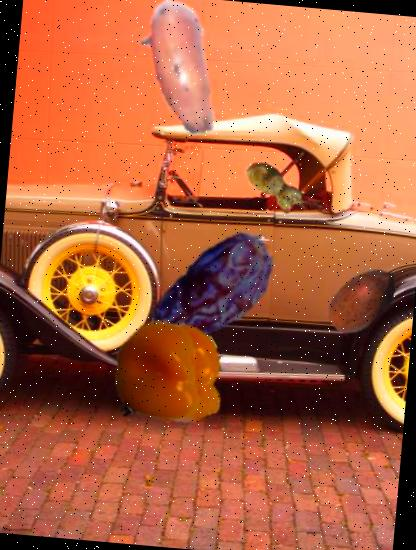Banana: (99, 0, 253, 145)
Dates: (136, 216, 292, 372)
Ginger: (239, 151, 311, 222)
Nut: (319, 255, 408, 344)
Pepper: (104, 313, 231, 440)
